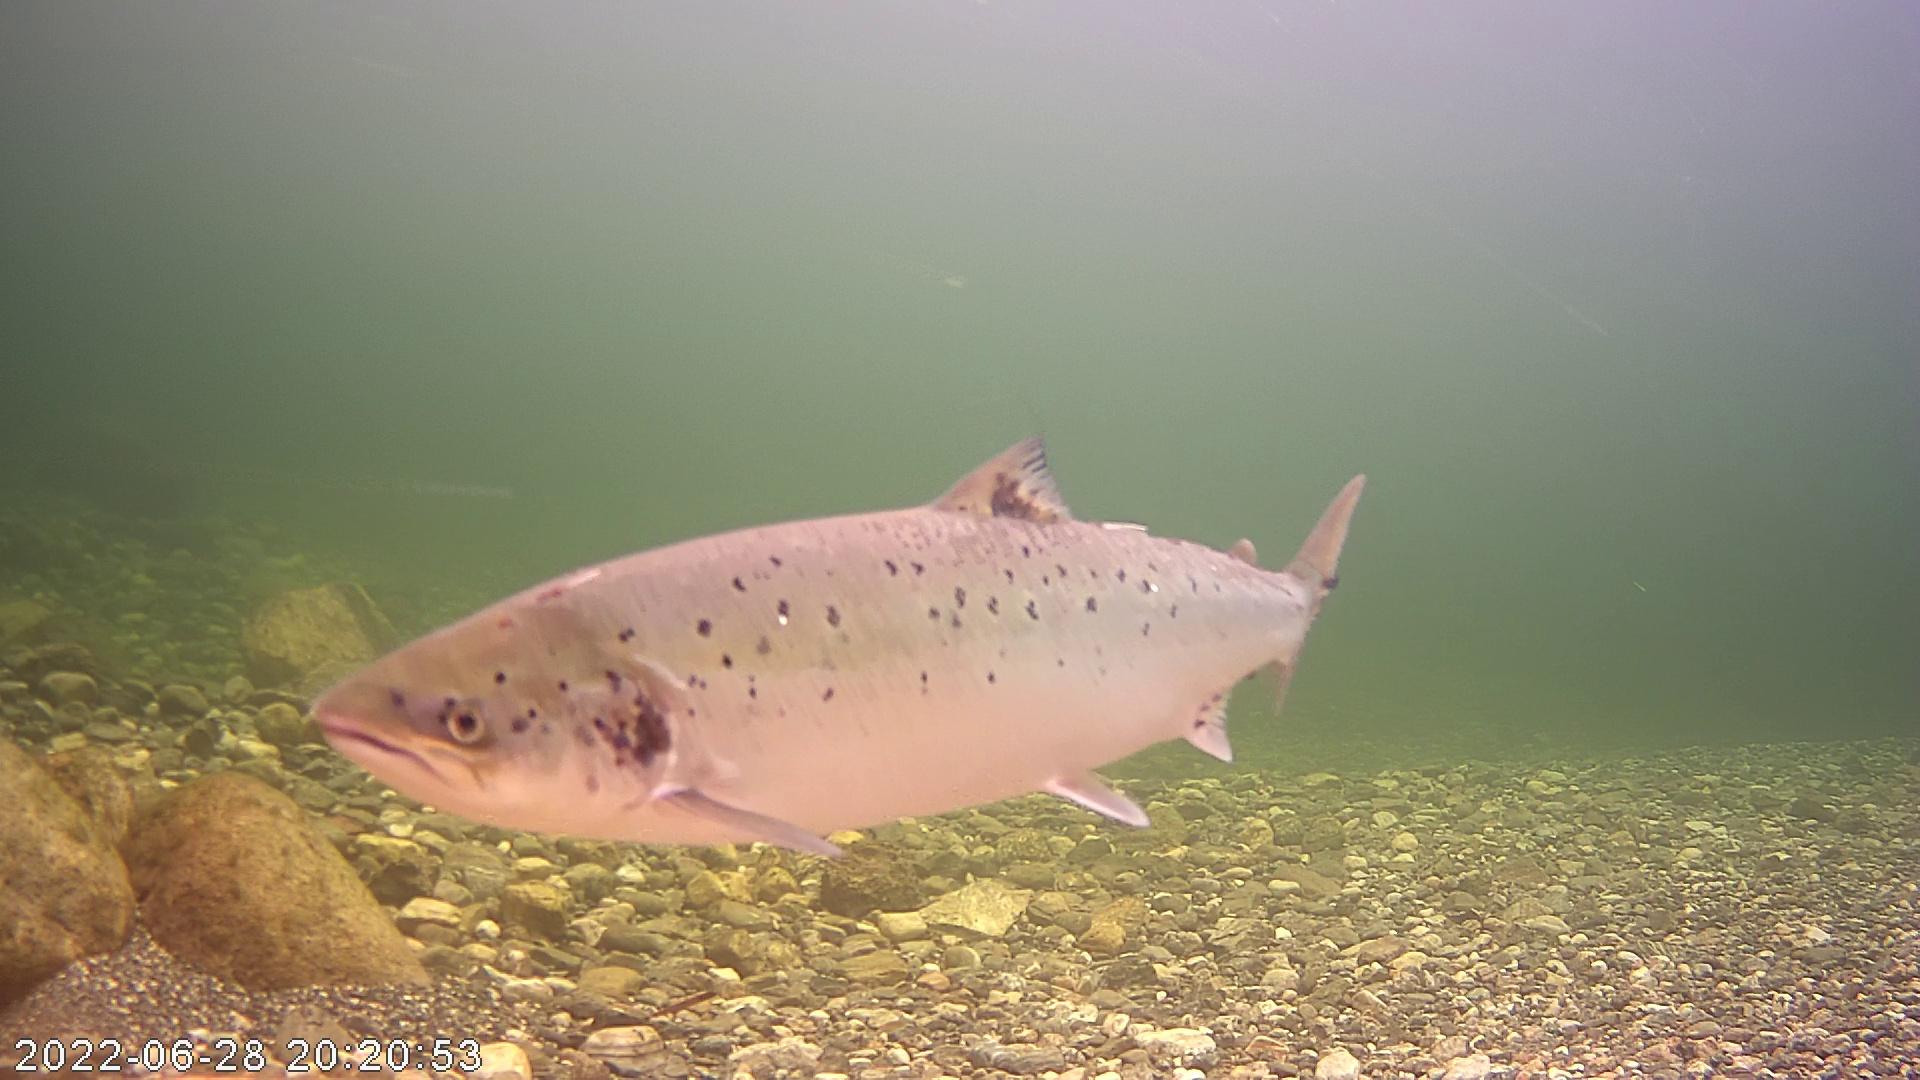salmon: (291, 369, 1362, 862)
